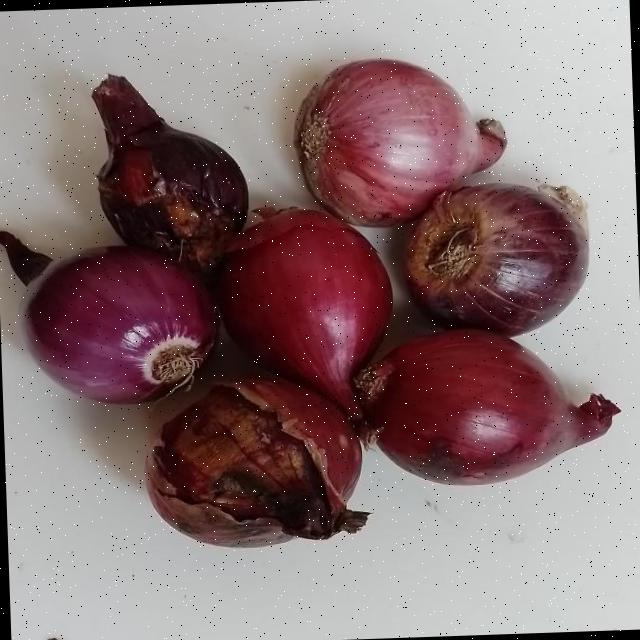Onion: (354, 330, 620, 484), (0, 231, 217, 403), (146, 380, 368, 547), (218, 210, 393, 421), (294, 59, 508, 225), (91, 74, 247, 274), (407, 184, 589, 335)
